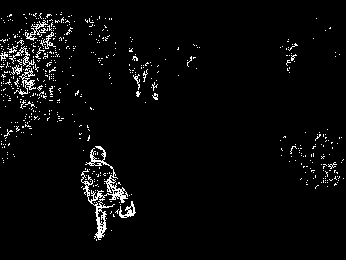person: (81, 141, 136, 244)
